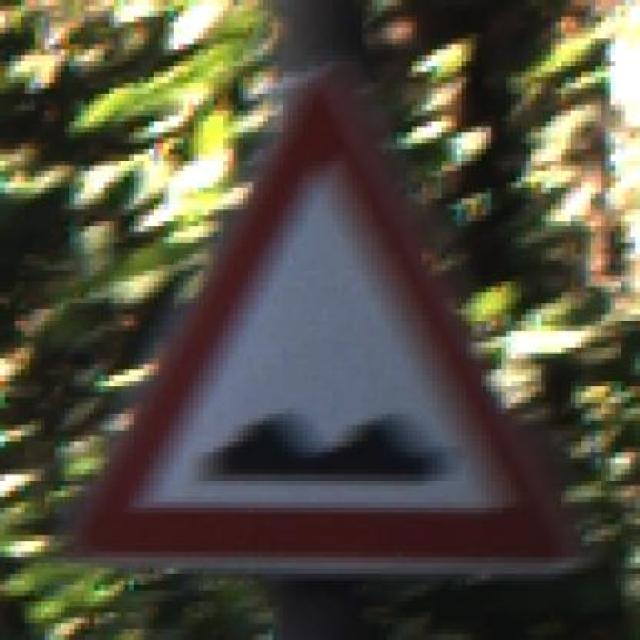Uneven Road: (79, 44, 601, 590)
